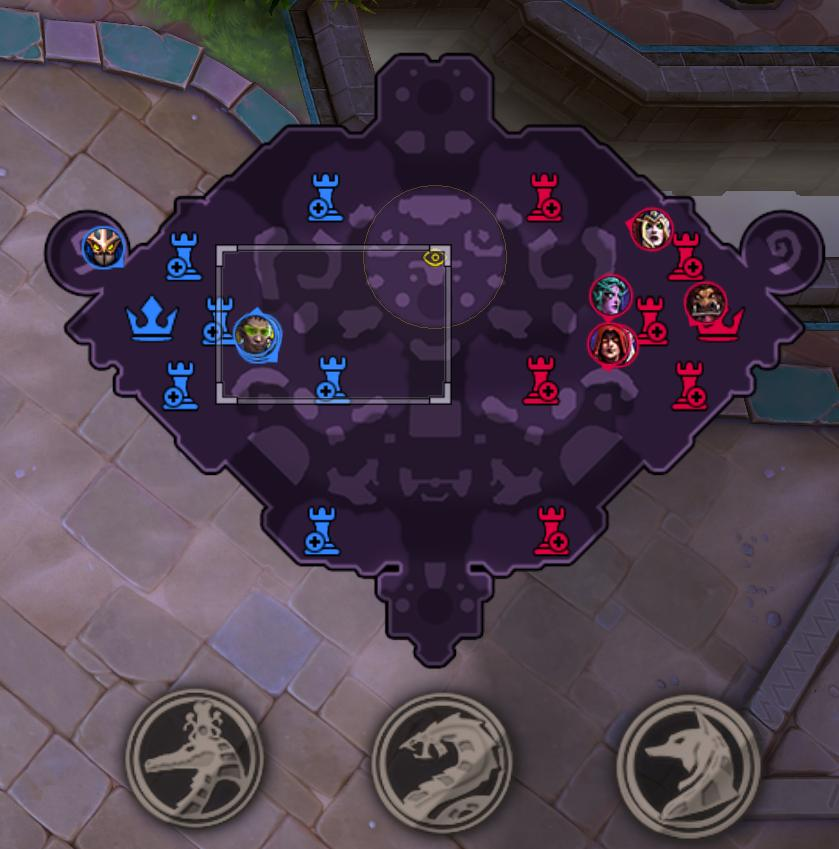blue nexus: (124, 292, 179, 342)
blue player: (233, 308, 281, 363), (82, 225, 124, 269)
blue tower: (295, 499, 344, 561), (306, 170, 344, 222), (165, 230, 203, 281), (162, 359, 199, 410), (201, 294, 234, 345), (314, 353, 349, 401)
red nexus: (694, 302, 744, 341)
red player: (588, 322, 635, 369), (628, 207, 672, 252), (683, 281, 727, 325), (589, 274, 631, 320), (638, 212, 667, 247)
red tower: (521, 354, 560, 405), (525, 171, 563, 223), (532, 503, 570, 555), (670, 360, 708, 411), (633, 293, 668, 347), (667, 229, 703, 281)
